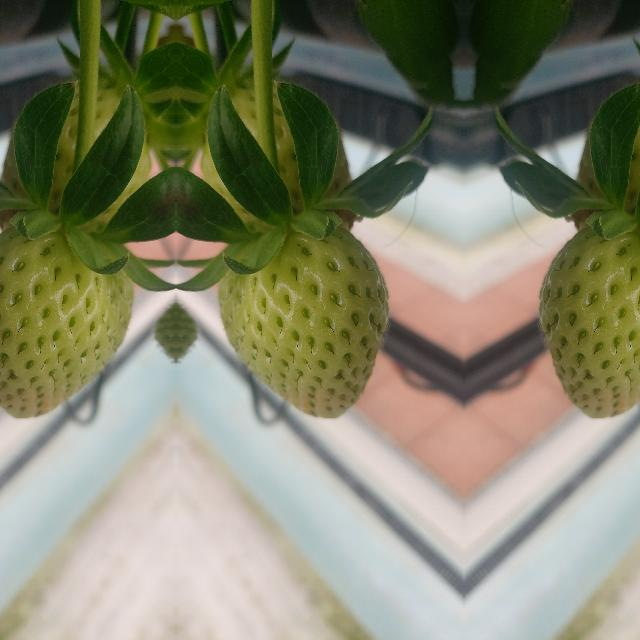Health_25: (216, 227, 388, 418), (0, 226, 133, 417), (538, 226, 640, 417)
